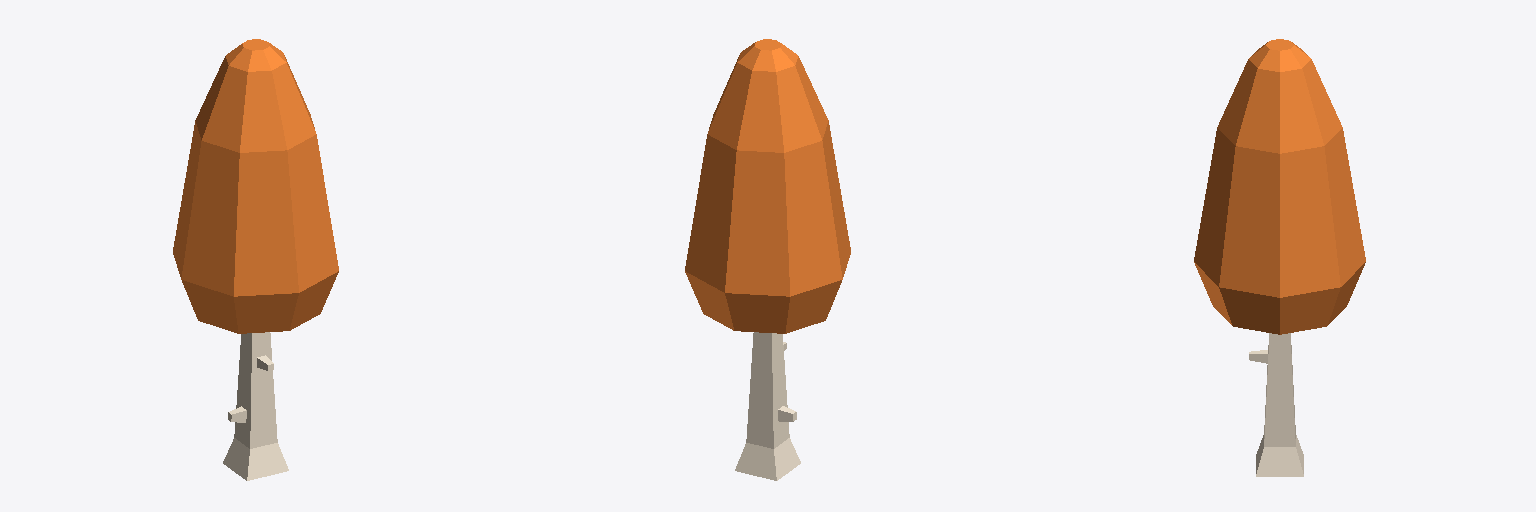
File: tree_cone_tall.obj
The picture shows the model from 3 angles: view 1: azimuth 30°, elevation 25°; view 2: azimuth 150°, elevation 25°; view 3: azimuth 270°, elevation 25°; orthographic projection.
Parts seen in each view (by area): view 1: tree_cone_fall; view 2: tree_cone_fall; view 3: tree_cone_fall.
Boxes of the visible parts, <box> form: tree_cone_fall: <box>173,39,338,480</box>; tree_cone_fall: <box>685,39,850,480</box>; tree_cone_fall: <box>1194,39,1365,476</box>.
Bounding box in the file's own units: 0.5297 × 1.43 × 0.5297.